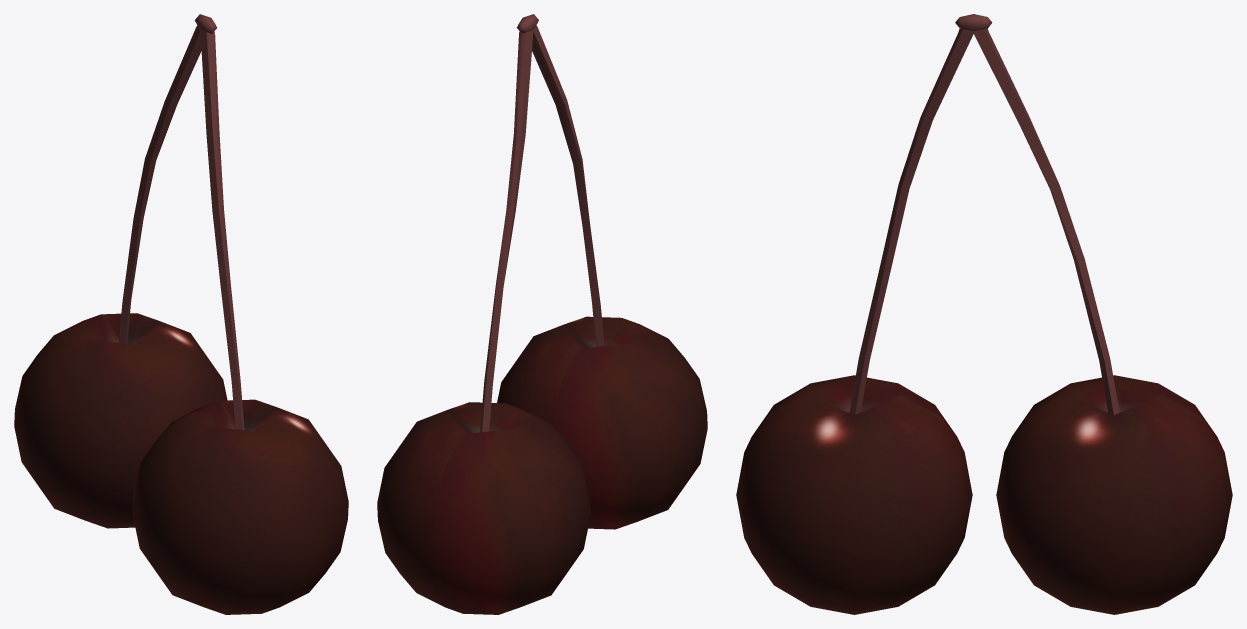
The model's file is cherries.fbx.
3 renders of one model, left to right at view 1: azimuth 30°, elevation 25°; view 2: azimuth 150°, elevation 25°; view 3: azimuth 270°, elevation 25°, orthographic. The views are drawn at different scales.
Parts seen in each view (by area): view 1: cherries_msh; view 2: cherries_msh; view 3: cherries_msh.
Boxes of the visible parts, x1,y1,x2,y2 form: cherries_msh: (14,14,348,614); cherries_msh: (377,14,707,614); cherries_msh: (736,14,1232,614).
Bounding box in the file's own units: 1.69 × 4.71 × 3.54.
